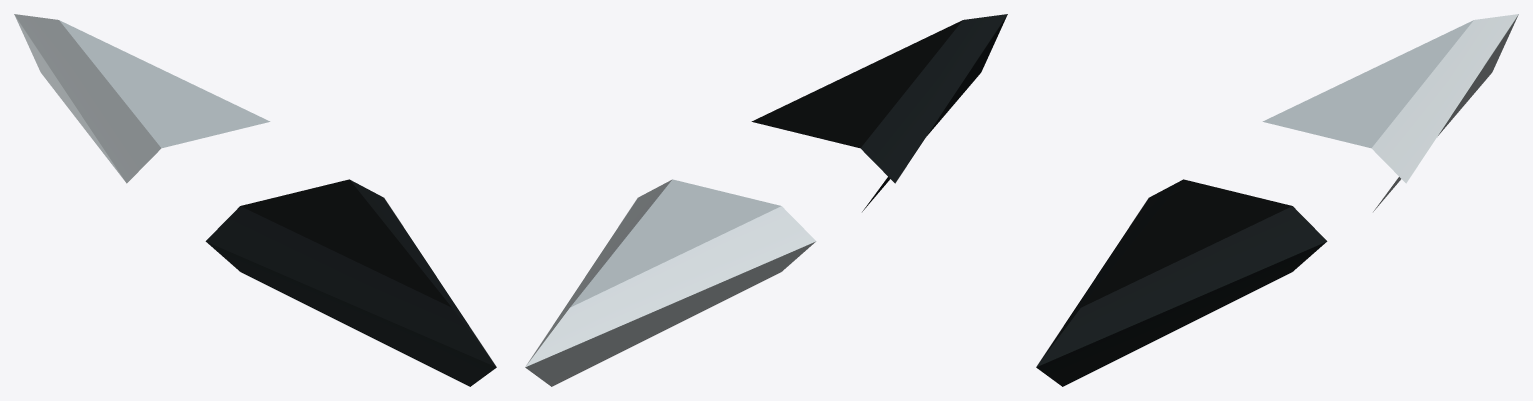
Rendered from compass_base_compass_needle.glb.
3 views of the same model, side by side, from view 1: azimuth 30°, elevation 25°; view 2: azimuth 150°, elevation 25°; view 3: azimuth 330°, elevation 25° (orthographic).
Visible parts, largest first — view 1: compass_needle; view 2: compass_needle; view 3: compass_needle.
Part boxes in pixels (left/top/right/bottom): compass_needle: left=14, top=14, right=496, bottom=386; compass_needle: left=525, top=14, right=1007, bottom=386; compass_needle: left=1036, top=14, right=1518, bottom=386.
Bounding box in the file's own units: 0.0796 × 0.028 × 0.3725.
1 material, 1 textured.
